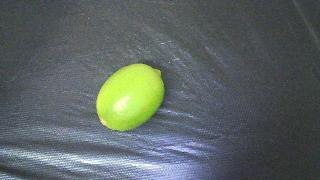LOCAL: (96, 64, 164, 131)
